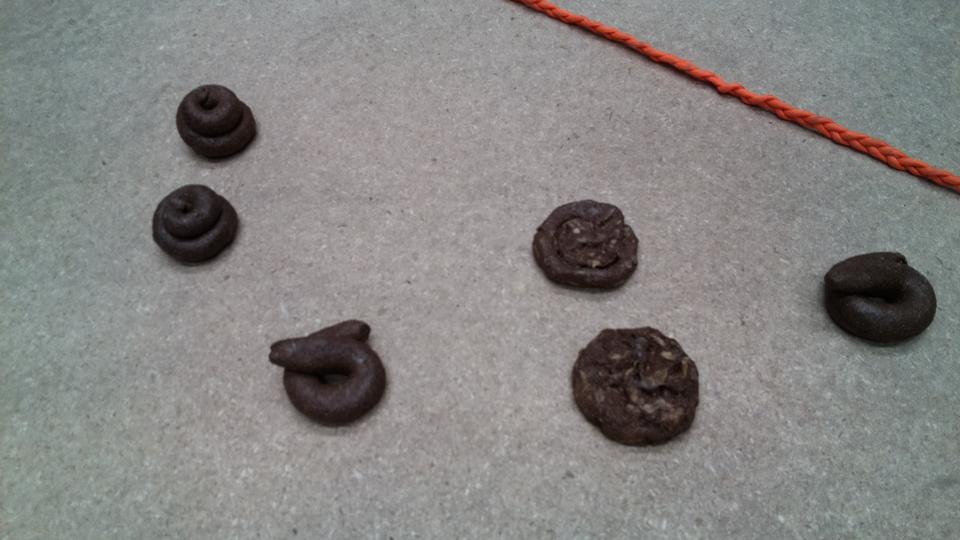poop: (569, 322, 702, 454), (268, 317, 388, 430), (818, 246, 942, 351), (529, 196, 643, 293), (148, 181, 242, 269), (172, 82, 261, 169)
rope: (532, 1, 960, 195)
